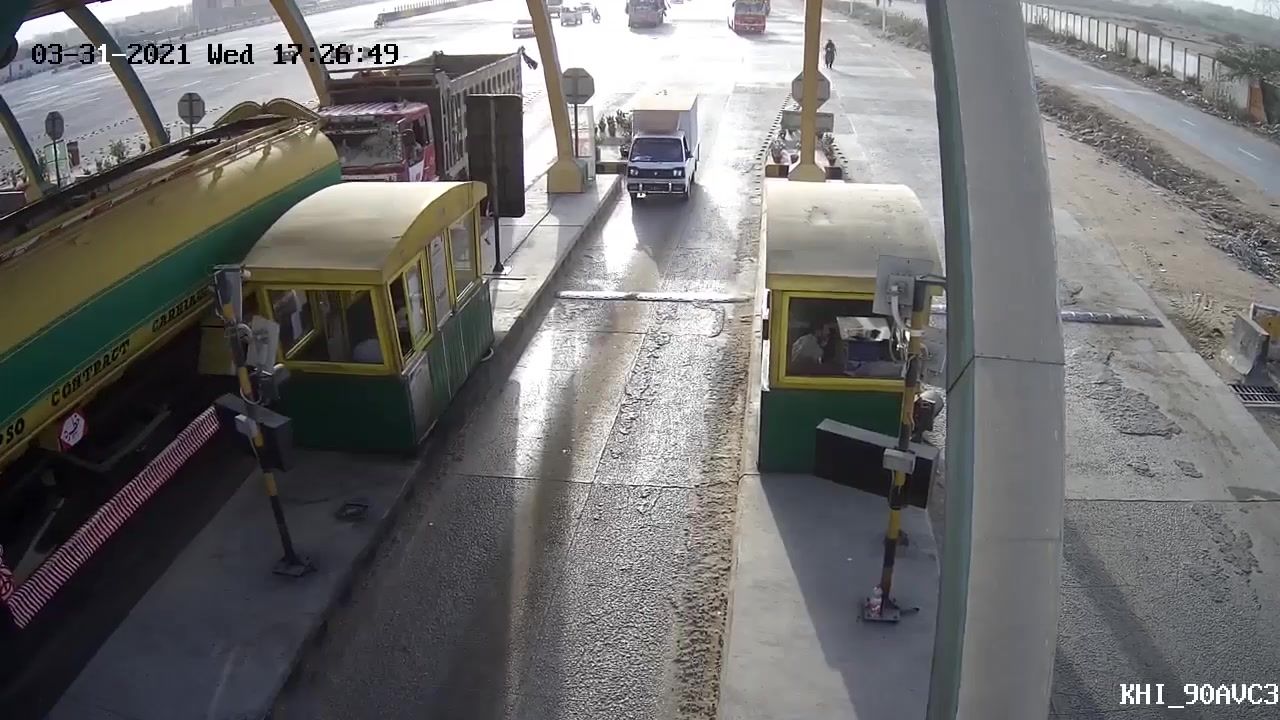F1: (601, 86, 718, 240)
